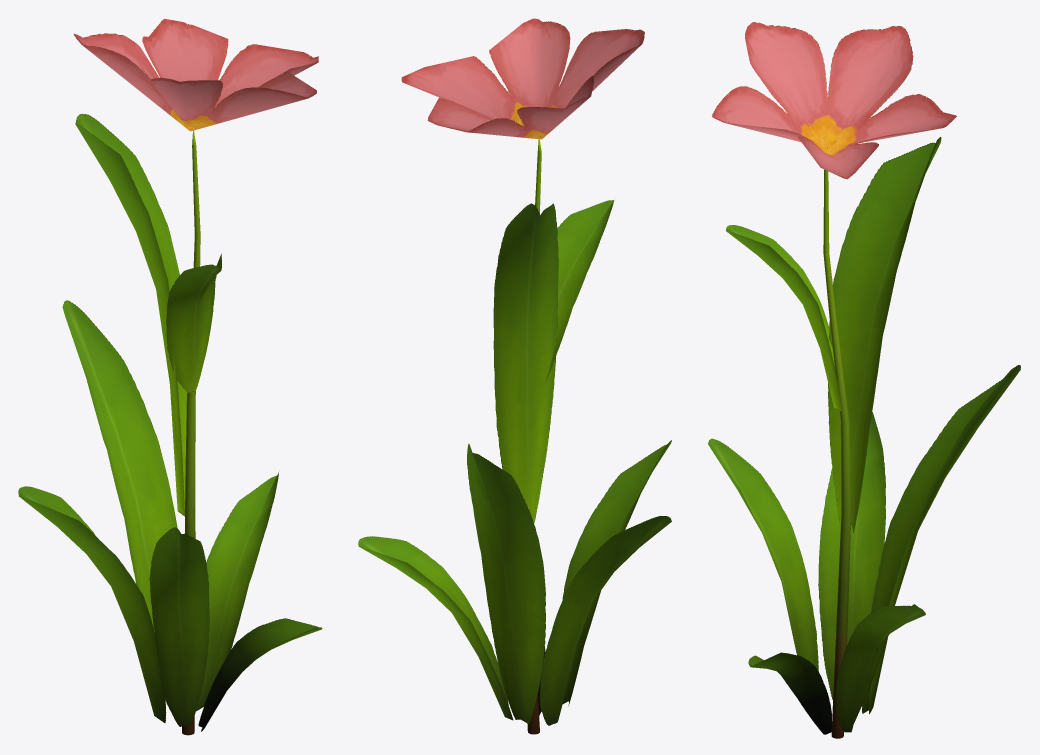
File: Flower_3_Single.glb
3 views of the same model, side by side, from view 1: azimuth 30°, elevation 25°; view 2: azimuth 150°, elevation 25°; view 3: azimuth 270°, elevation 25° (orthographic). The views are drawn at different scales.
Visible parts, largest first — view 1: Flower_3_Single; view 2: Flower_3_Single; view 3: Flower_3_Single.
Part boxes in pixels (x1,y1,x2,y2): Flower_3_Single: (18,19,322,735); Flower_3_Single: (358,18,671,734); Flower_3_Single: (708,22,1020,738).
Size of the model in its own units: 0.9066 by 2.07 by 0.8775.
2 materials, 2 textured.
